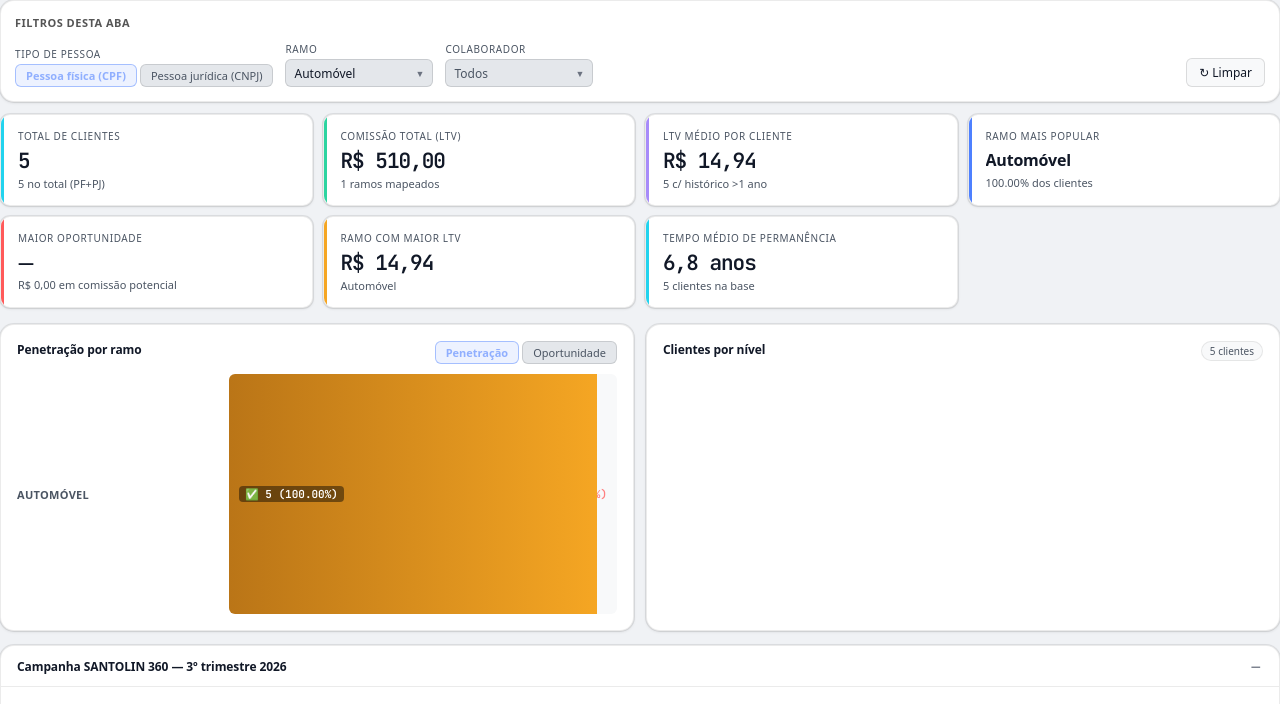
Test: aba Cross-sell: base nova (keepFilters) › base trocou com a aba desmontada: ao voltar, o ramo vazio é remarcado
The width and height of the screenshot is (1280, 704).
Click the button "↻ Limpar": (1226,72) top-left (1186, 58), bottom-right (1265, 87)
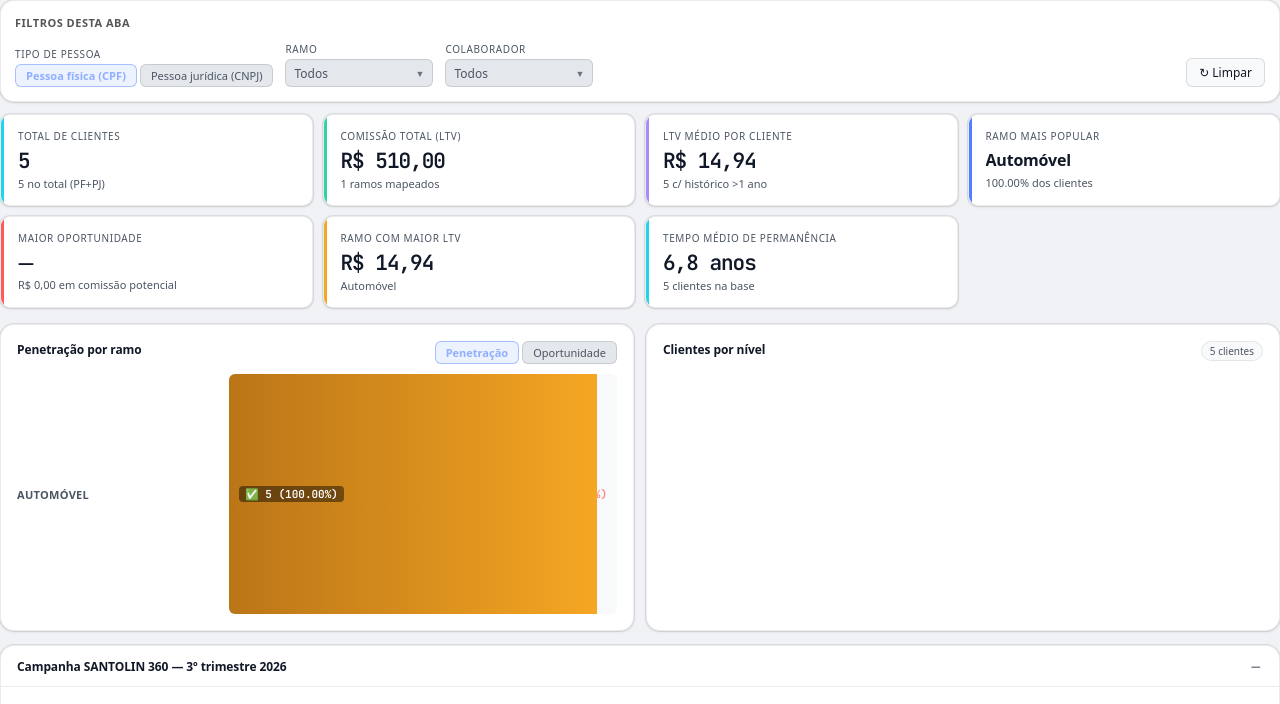
Now the 1st text with class "ms-trigger-text" reads "Todos", box top-left (294, 64), bottom-right (328, 82)
